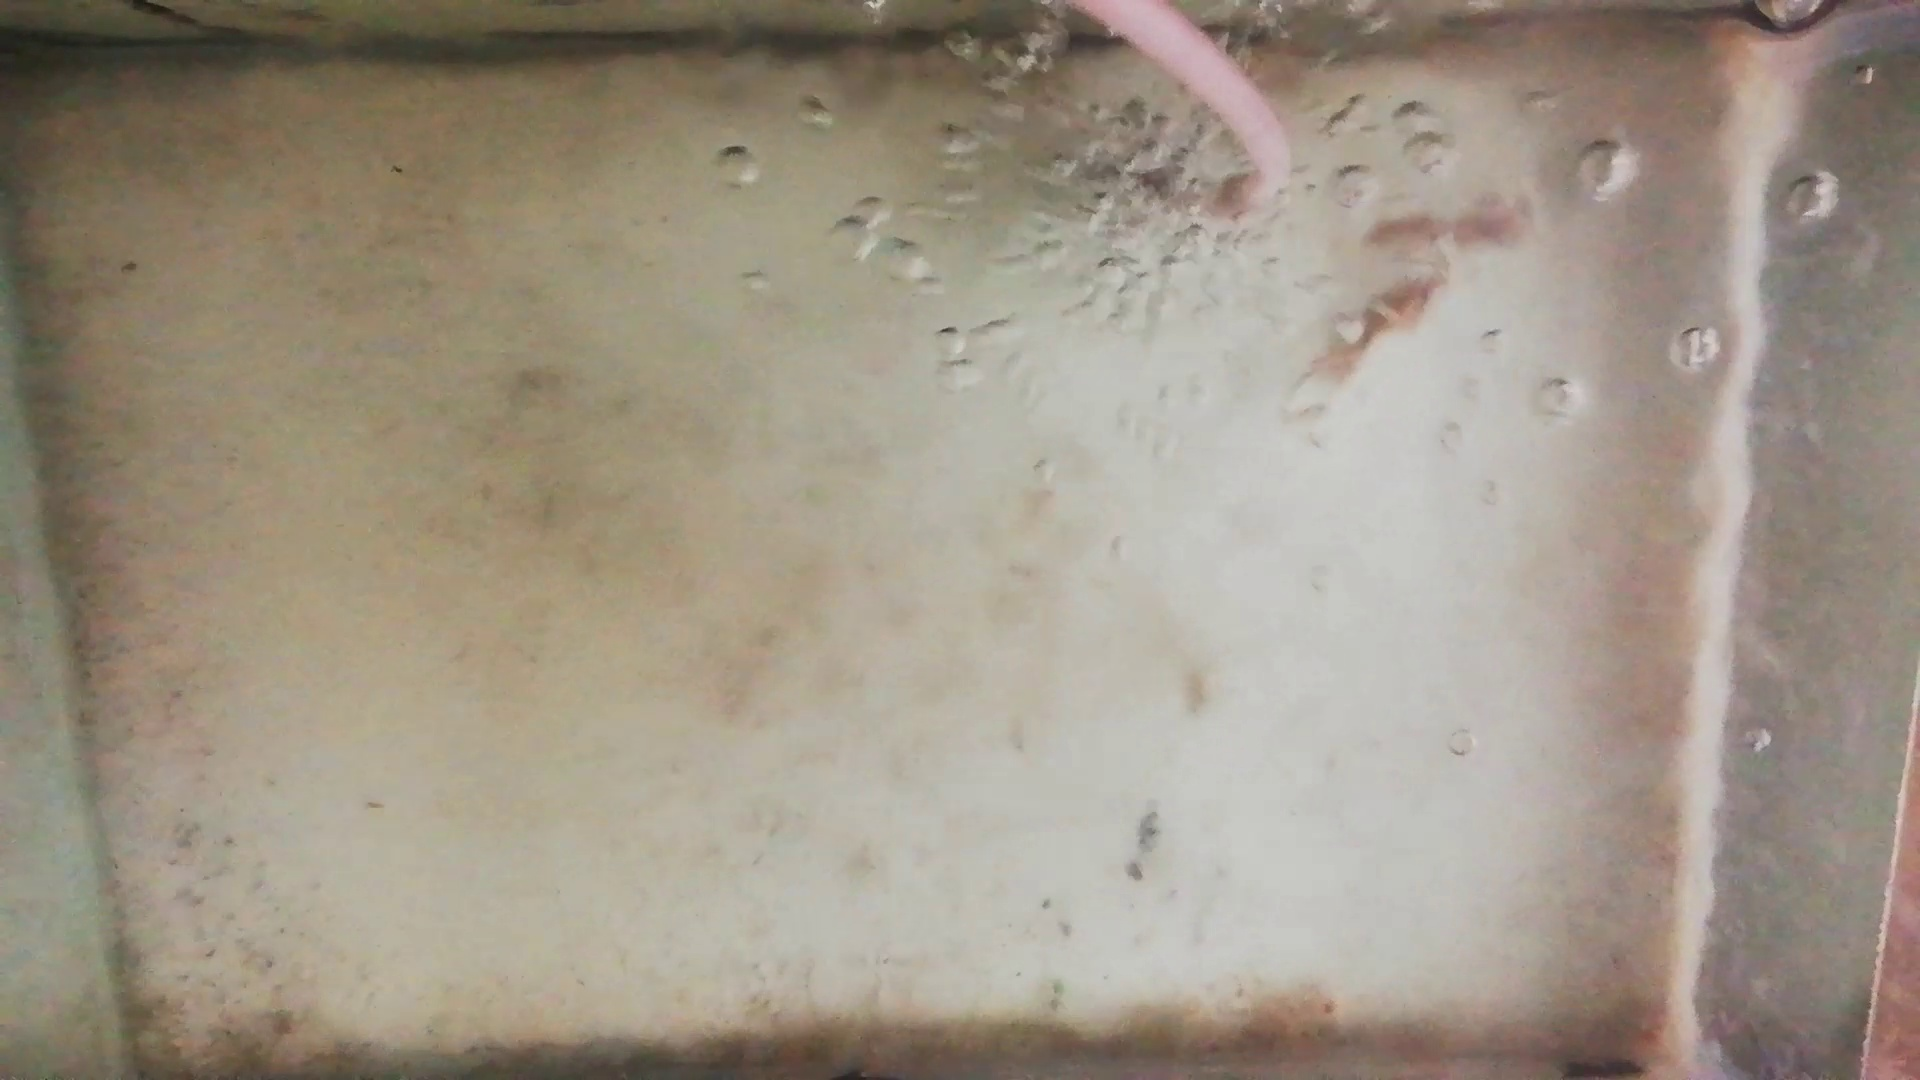fish: (1298, 269, 1445, 389), (1362, 210, 1526, 251)
